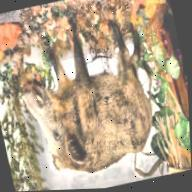boar: (0, 7, 171, 192)
